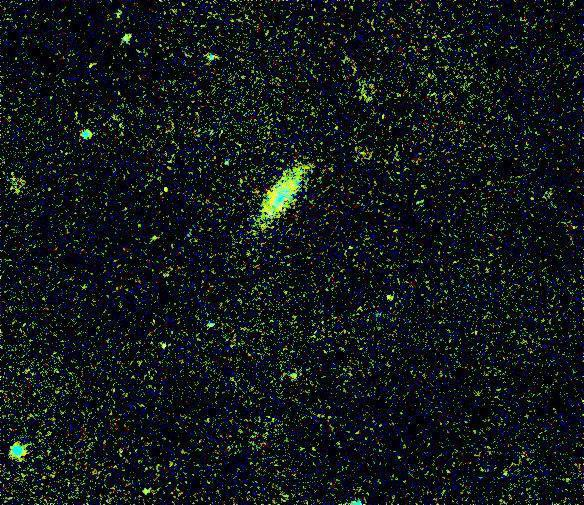star: (376, 286, 406, 316)
